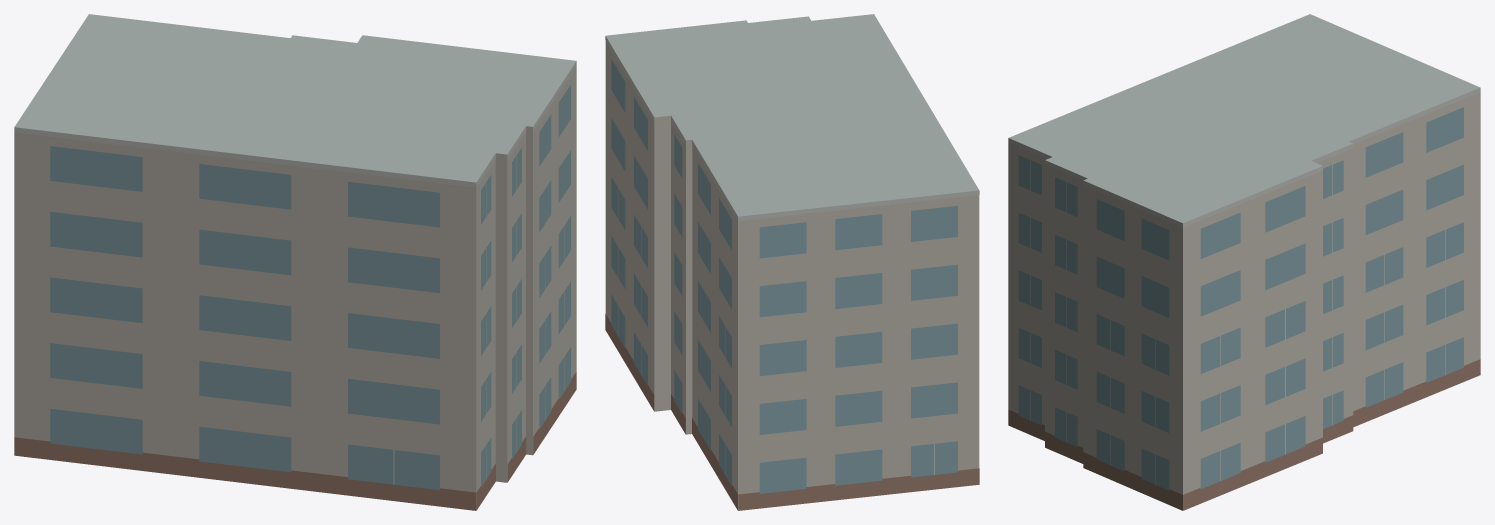
Rendered from survey-upis-32931045.glb.
3 renders of one model, left to right at view 1: azimuth 30°, elevation 25°; view 2: azimuth 150°, elevation 25°; view 3: azimuth 270°, elevation 25°, orthographic. The views are drawn at different scales.
Visible parts, largest first — view 1: survey-upis-32931045.tmp; view 2: survey-upis-32931045.tmp; view 3: survey-upis-32931045.tmp.
Boxes of the visible parts, bbox=[...] form: survey-upis-32931045.tmp: bbox=[14, 14, 576, 510]; survey-upis-32931045.tmp: bbox=[605, 14, 979, 510]; survey-upis-32931045.tmp: bbox=[1008, 14, 1480, 510].
Size of the model in its own units: 24.13 by 15.45 by 23.
